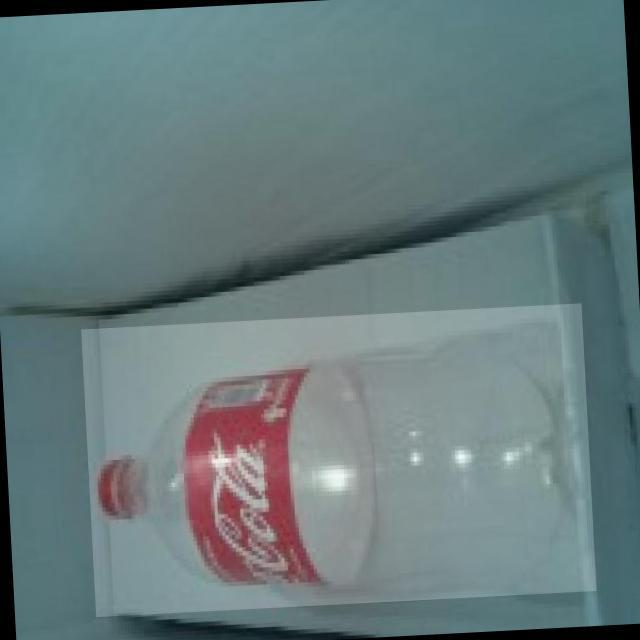good: (82, 303, 598, 617)
